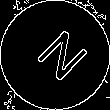N_SW: (23, 23, 87, 87)
